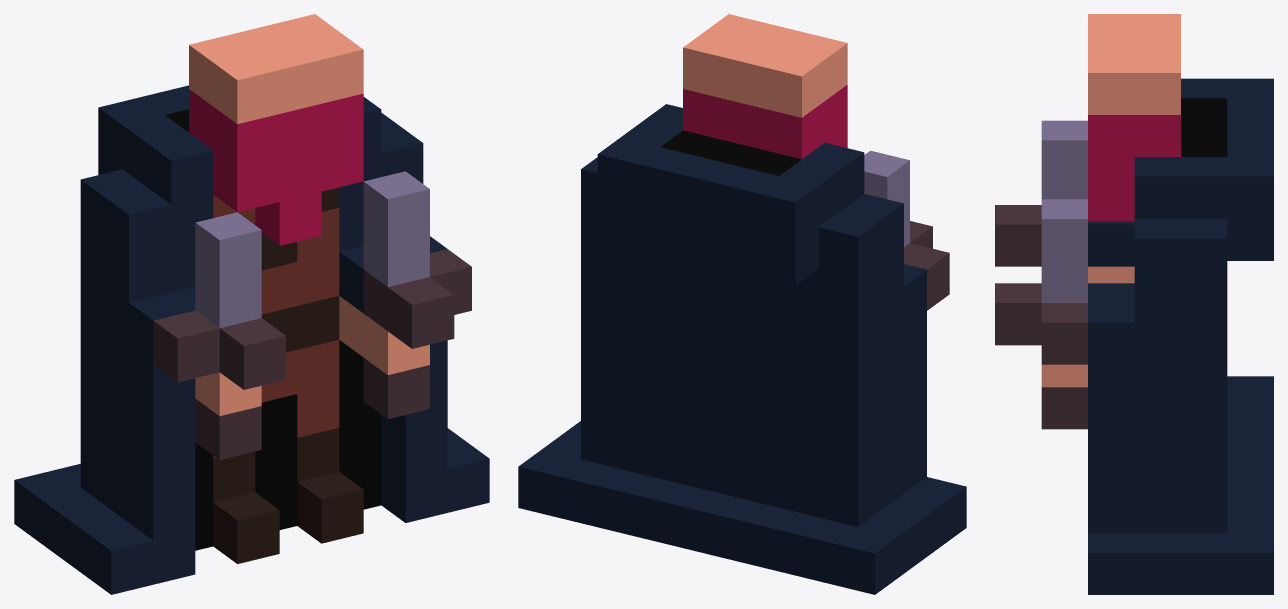
Rendered from rogue_idle_0.obj.
The picture shows the model from 3 angles, left to right: view 1: azimuth 30°, elevation 25°; view 2: azimuth 150°, elevation 25°; view 3: azimuth 270°, elevation 25°; orthographic projection. The views are drawn at different scales.
Bounding box in the file's own units: 0.9 × 1.1 × 0.6.
1 material, 1 textured.
